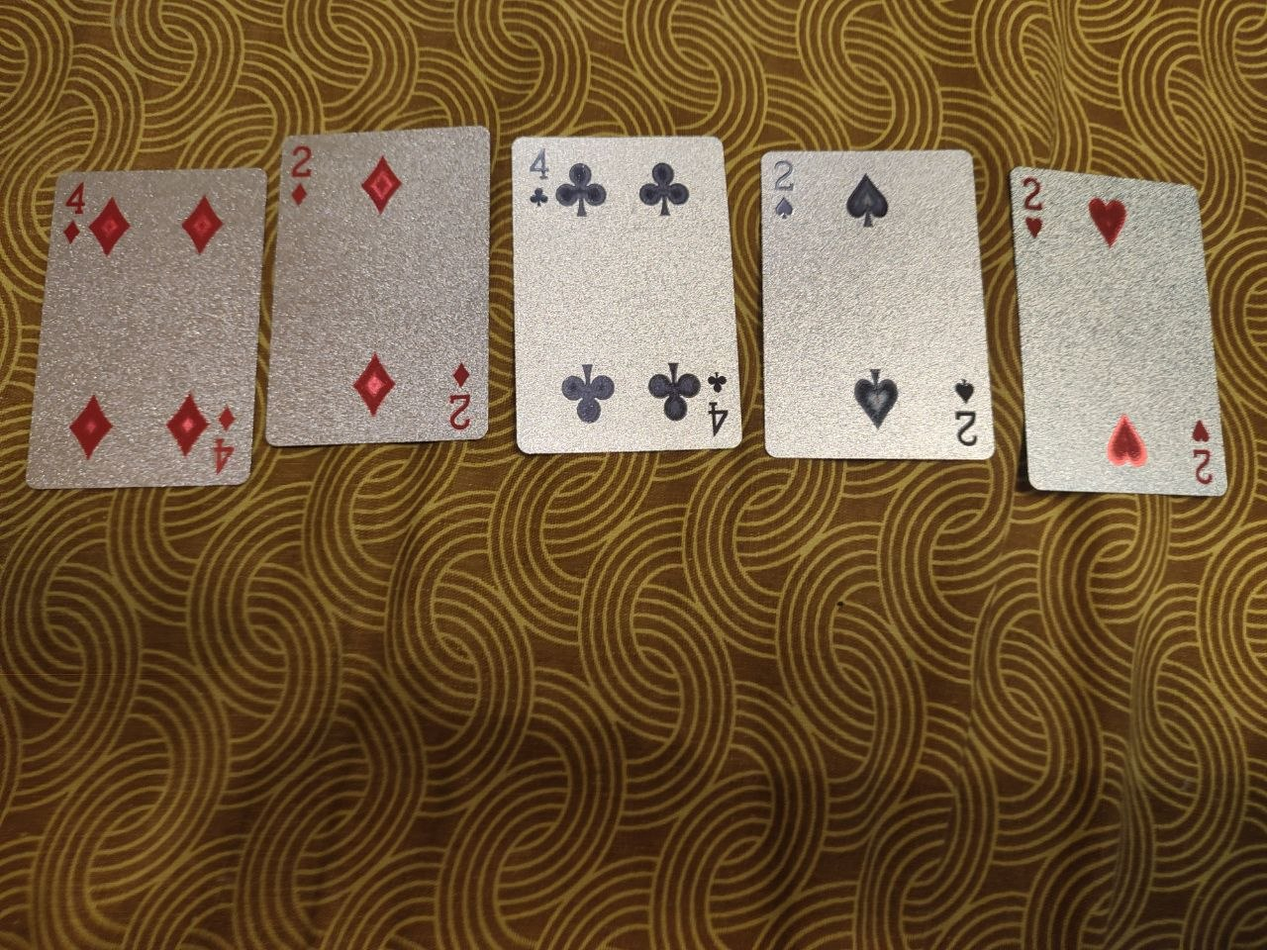2D: (269, 125, 492, 446)
2H: (1010, 163, 1228, 494)
2S: (759, 146, 999, 463)
4C: (509, 132, 743, 455)
4D: (23, 164, 268, 489)
